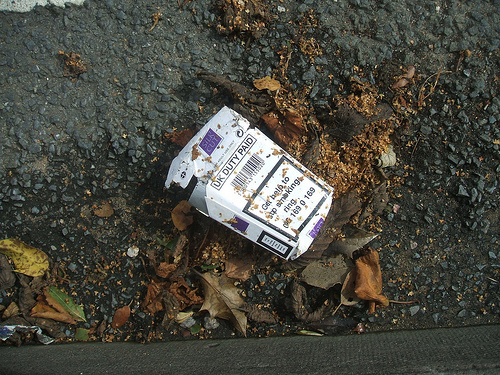litter: (164, 102, 334, 261)
